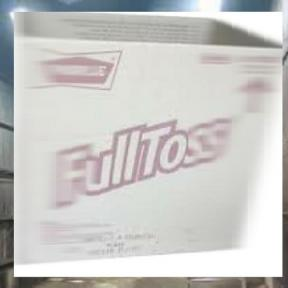box: (10, 8, 287, 281)
